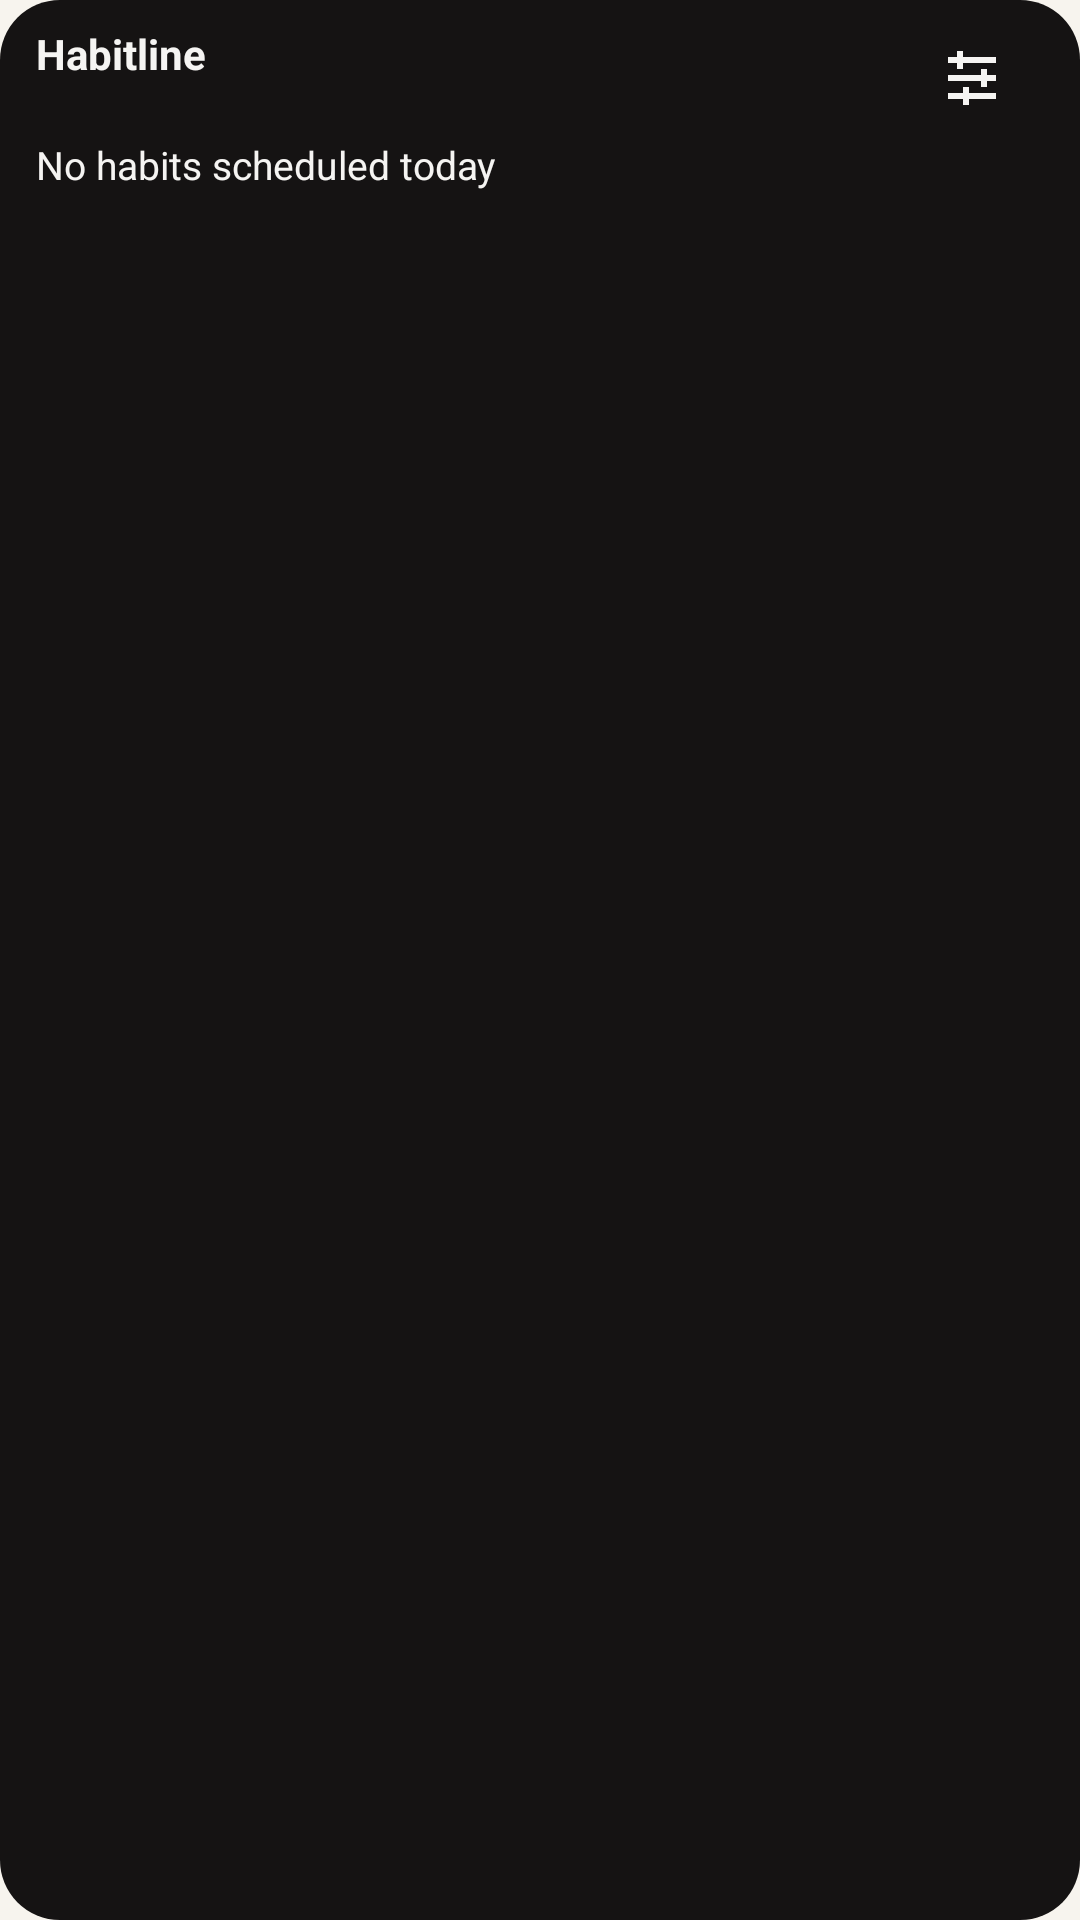

Locate icon controls on the screen. Image size 1080px×1920px, boxes as (x1, y1, x2, y2).
Widget preferences: (948, 51, 996, 105)
